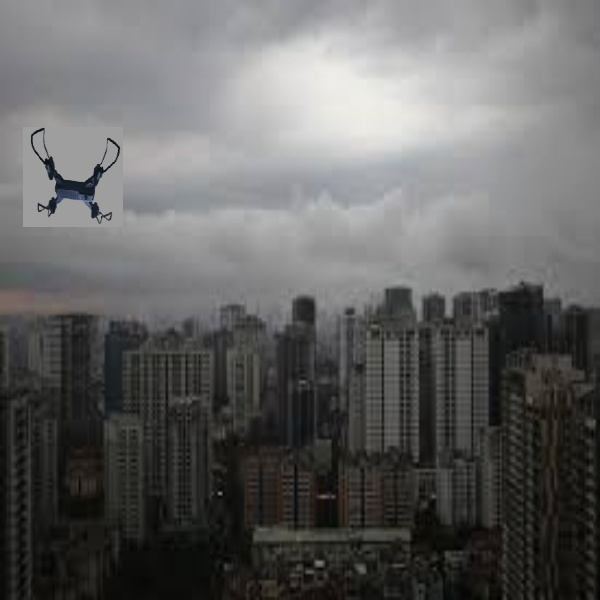drone: (22, 124, 123, 227)
